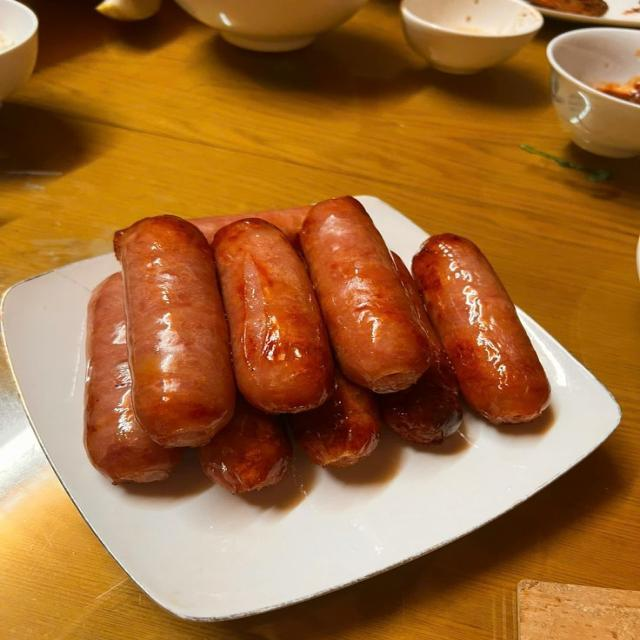sausage: (120, 216, 235, 446), (413, 234, 550, 423), (300, 197, 430, 392), (213, 219, 333, 412), (85, 273, 181, 484), (380, 254, 461, 444), (199, 395, 291, 493), (290, 368, 380, 467), (189, 206, 311, 248), (190, 206, 310, 247)
